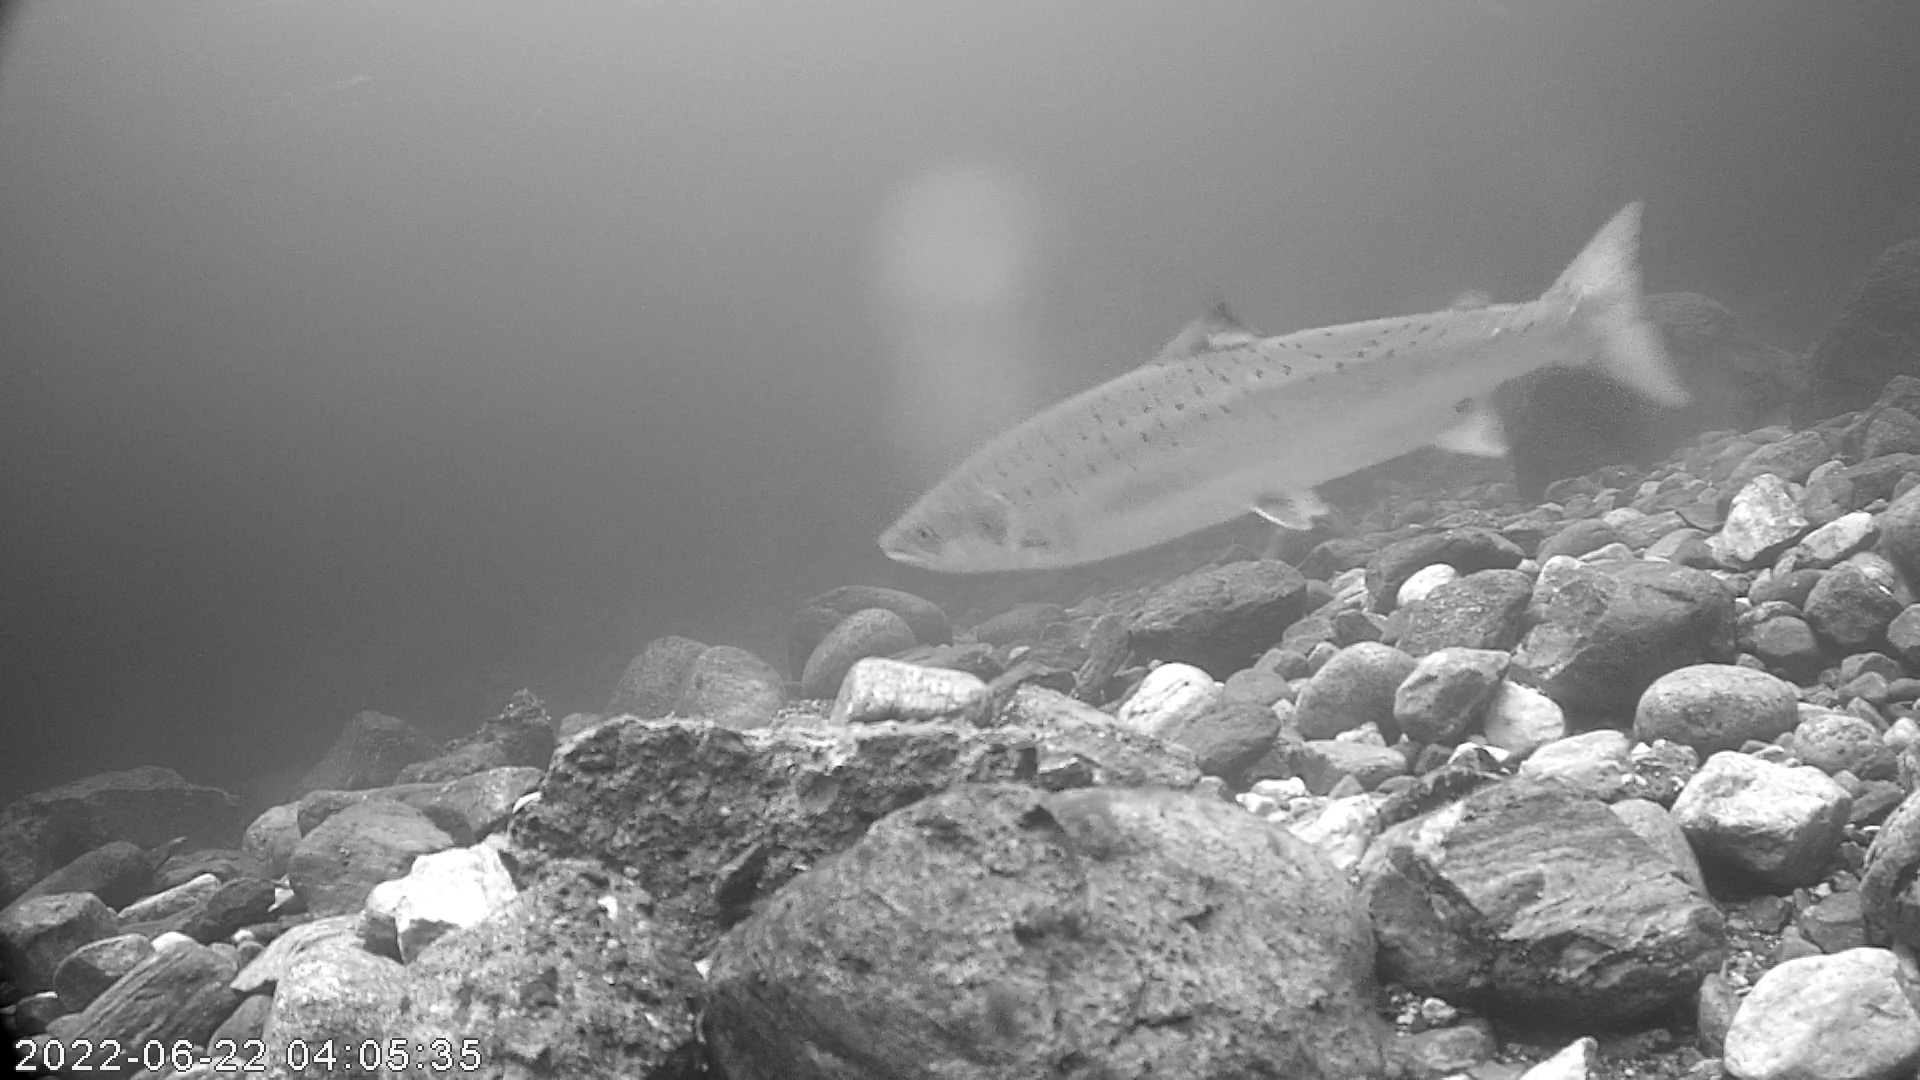salmon: (876, 193, 1689, 580)
